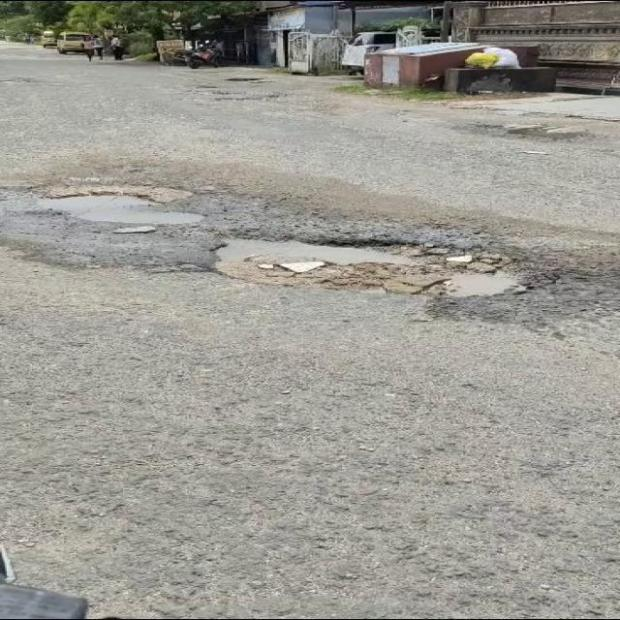lubang: (215, 212, 559, 323), (0, 187, 202, 239)
